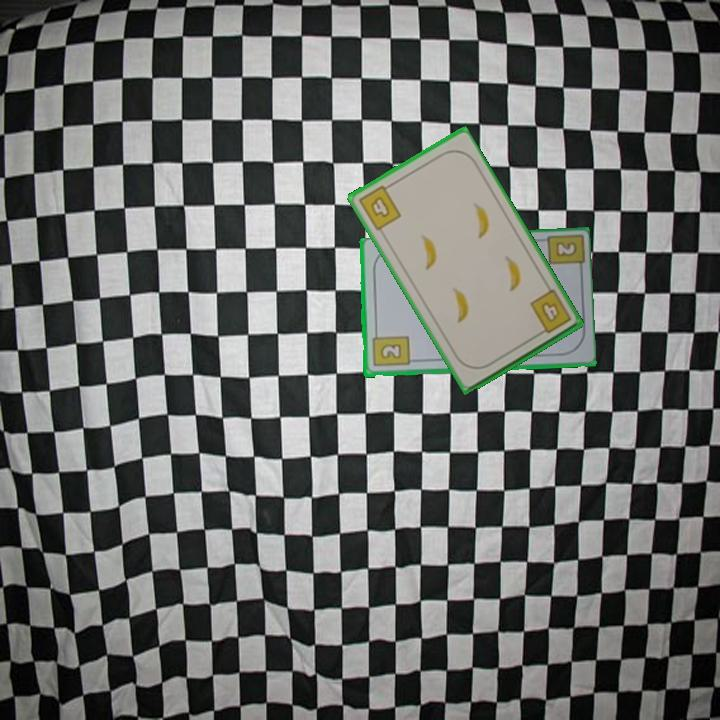2b: (368, 328, 412, 370), (554, 241, 577, 258)
4b: (354, 180, 404, 233), (526, 286, 574, 339)
